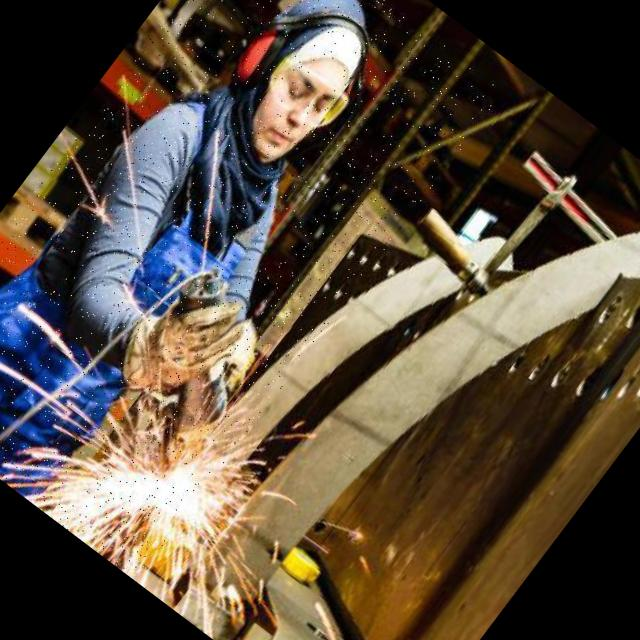vehicle: (0, 0, 505, 581)
